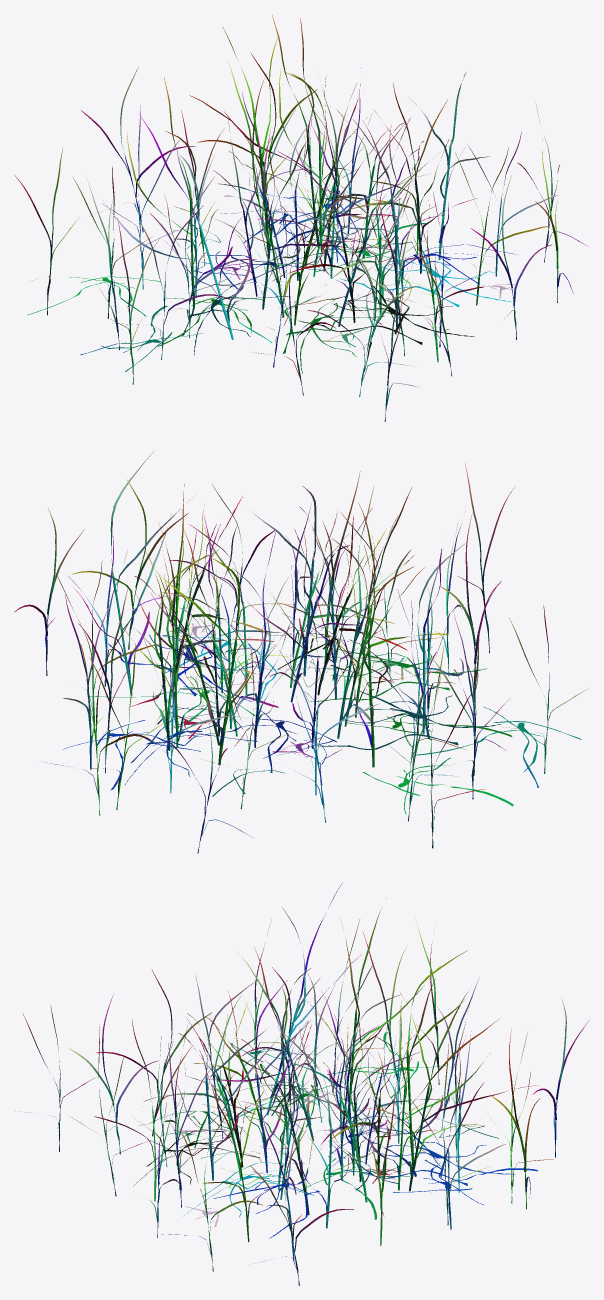
File: Kikuyu_Grass_wiljearqx_Raw_wiljearqx_VarD_LOD0.fbx
3 renders of one model, top to bottom at view 1: azimuth 30°, elevation 25°; view 2: azimuth 150°, elevation 25°; view 3: azimuth 270°, elevation 25°, orthographic. The views are drawn at different scales.
Parts seen in each view (by area): view 1: _d3d8_VarD_High; view 2: _d3d8_VarD_High; view 3: _d3d8_VarD_High.
Boxes of the visible parts, x1,y1,x2,y2 form: _d3d8_VarD_High: (14,15,587,421); _d3d8_VarD_High: (14,451,588,853); _d3d8_VarD_High: (15,882,588,1285).
Bounding box in the file's own units: 71.97 × 33.24 × 75.03.
